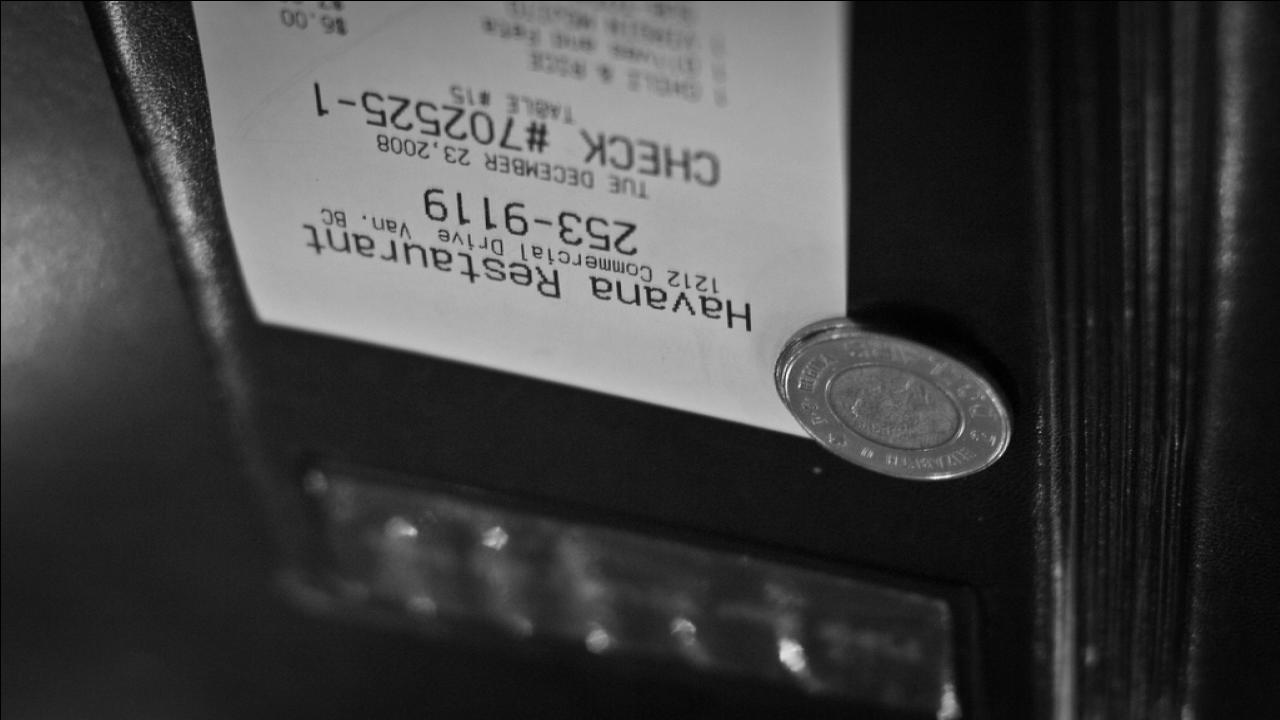coin: (771, 320, 1020, 488)
